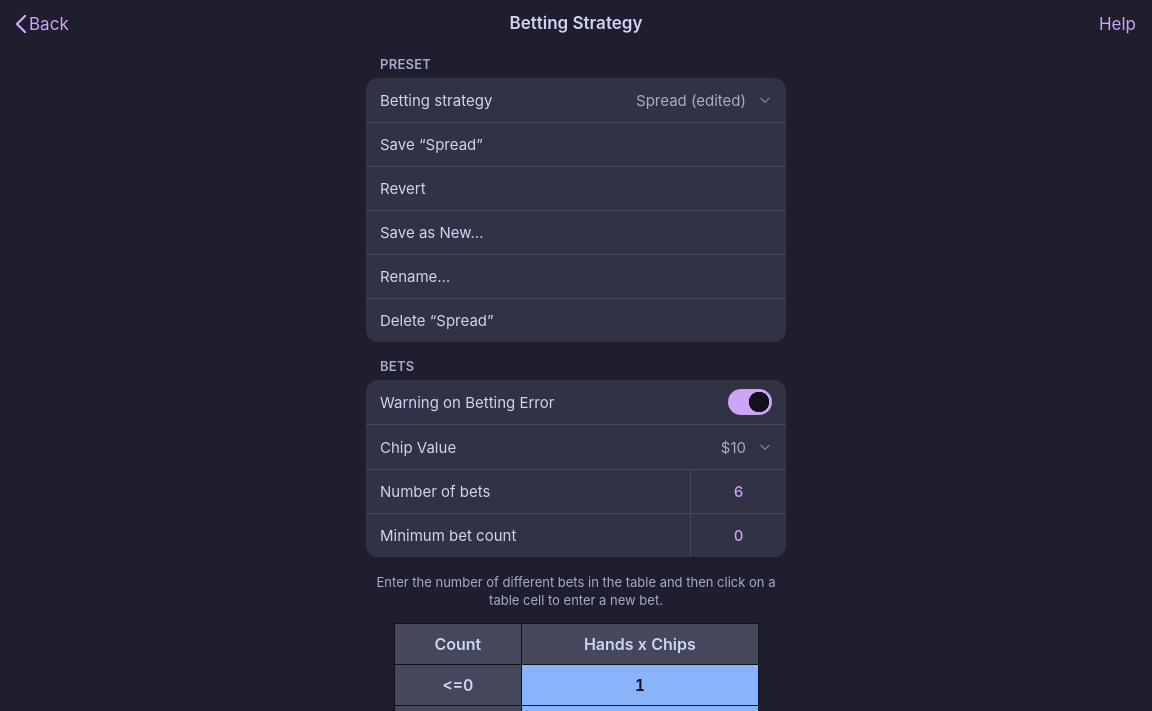
Test: the preset picker › marks the selected strategy edited, and saves the edit back into it
Expected: the dropdown named "Betting strategy" shows "Spread (edited)", [366,78,786,122]
Click the button "Save “Spread”".
click(431, 144)  # box [366,122,786,166]
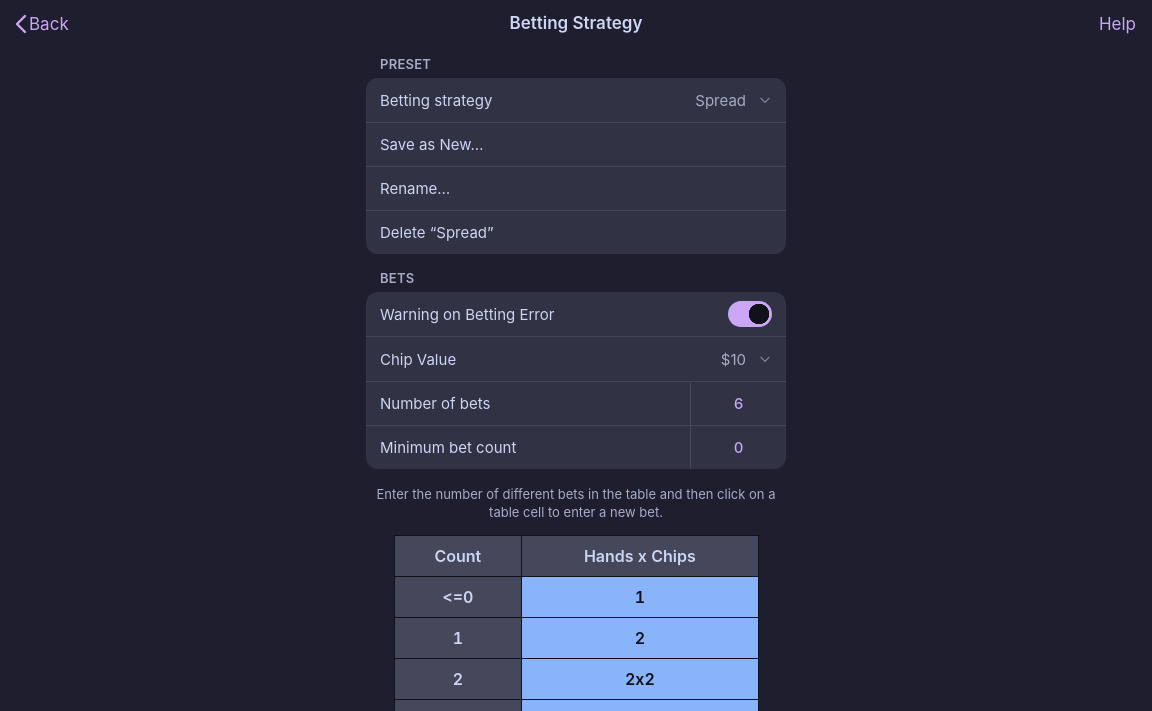
Expected: the dropdown named "Betting strategy" shows "Spread", [366,78,786,122]
